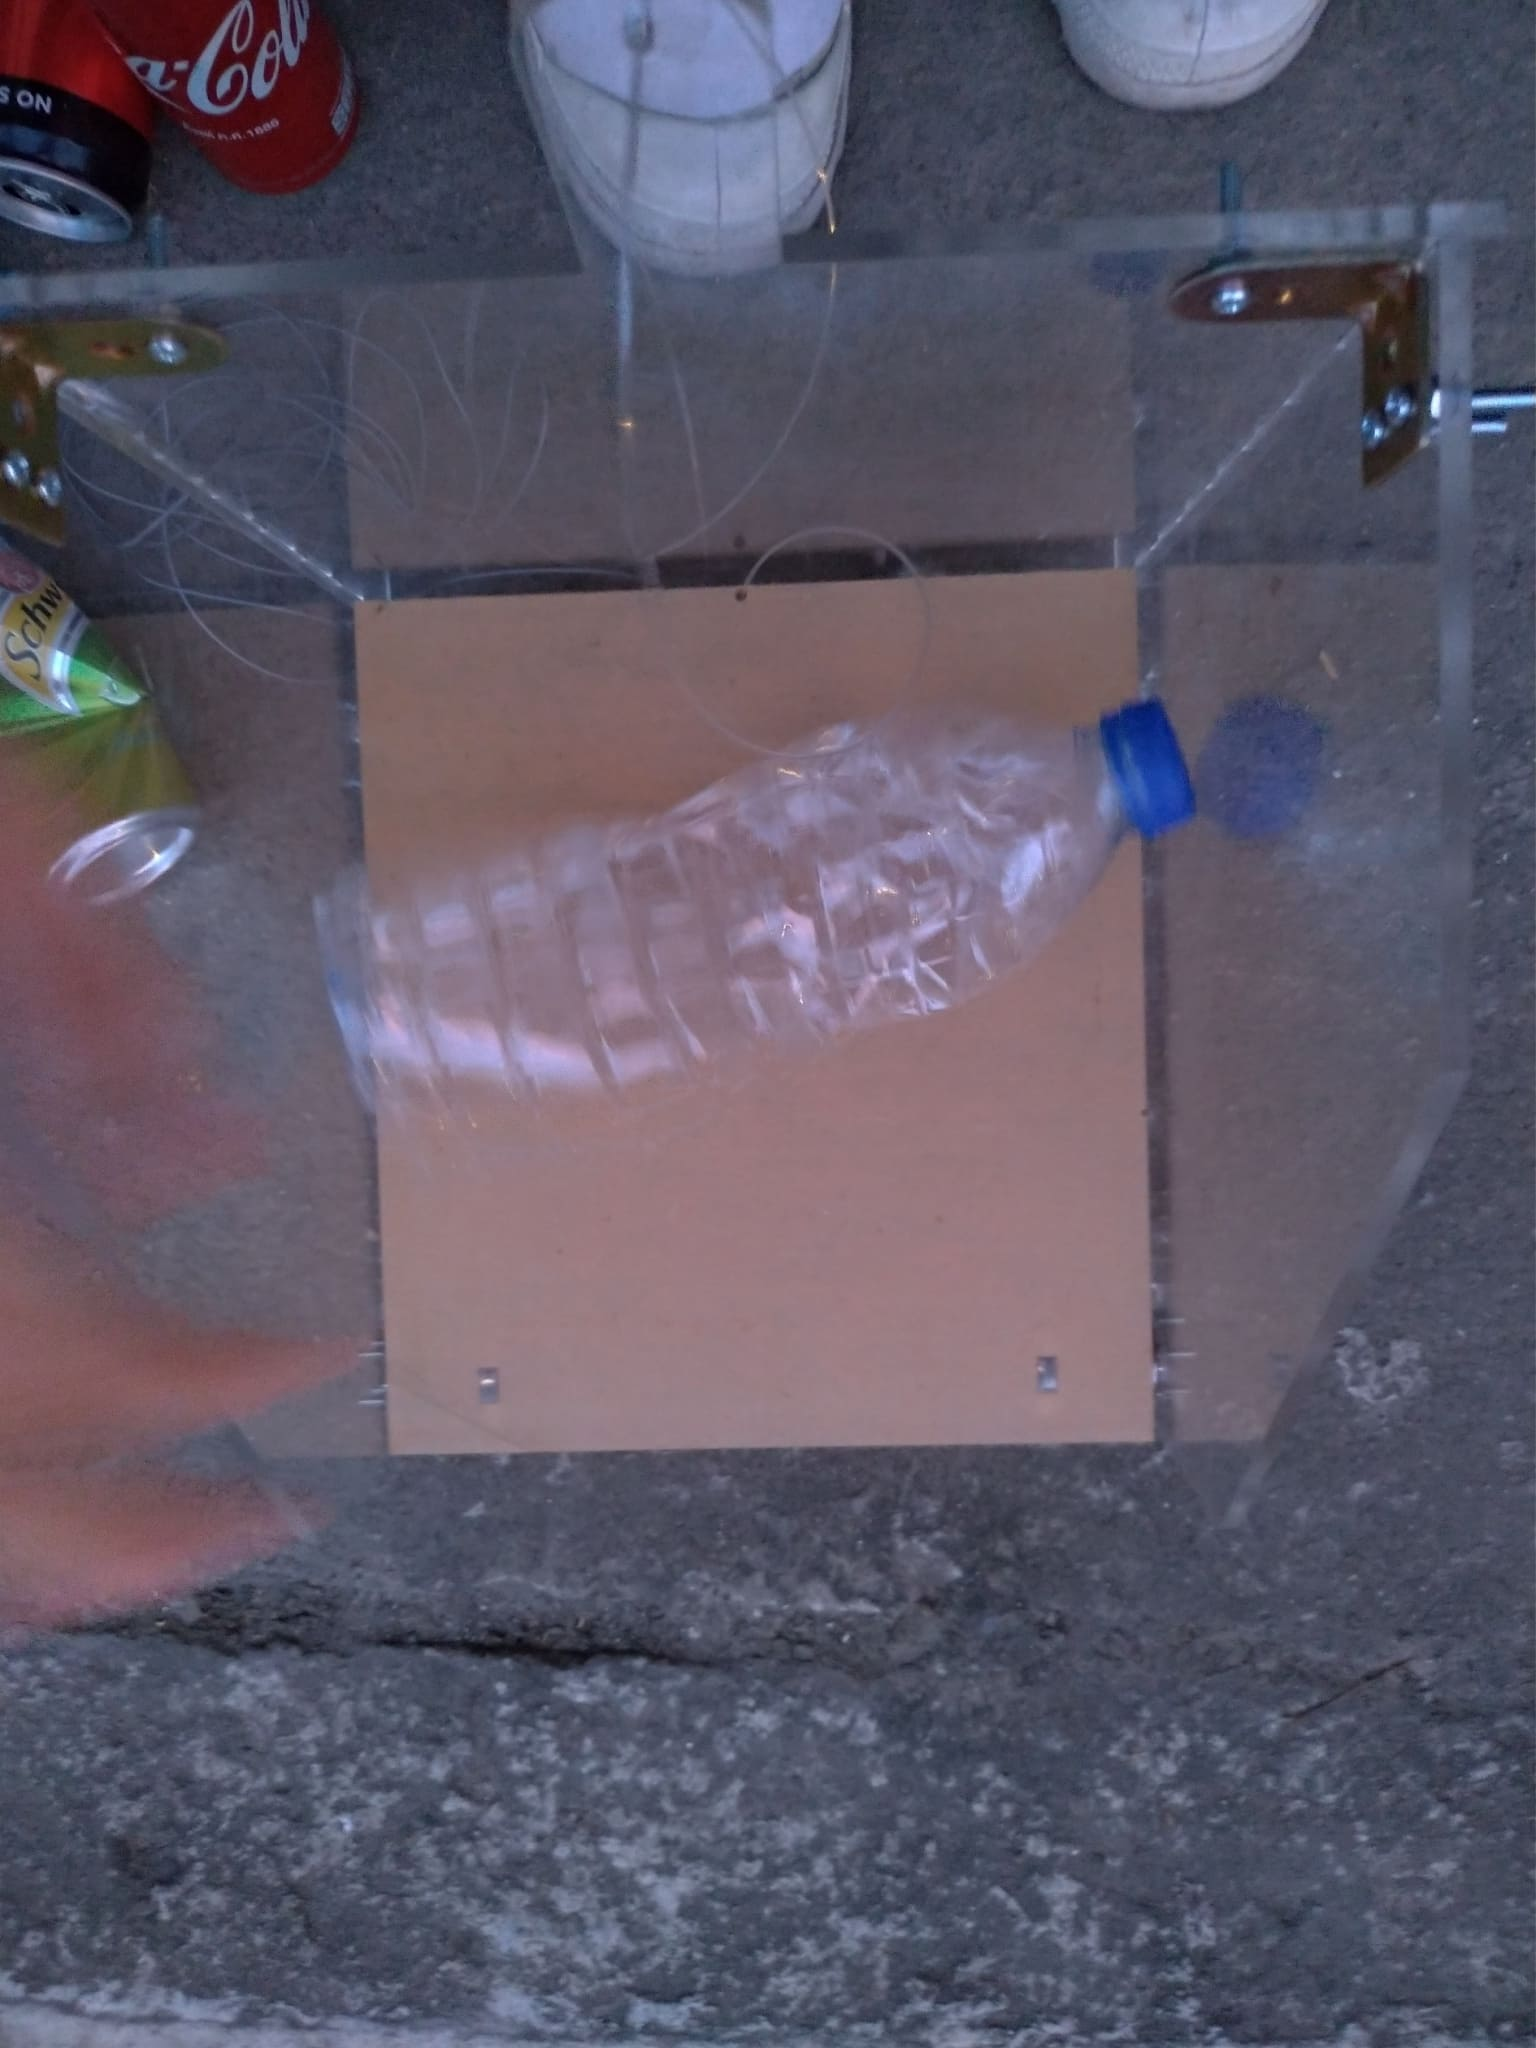AlCan: (2, 497, 211, 926), (89, 2, 376, 206), (2, 2, 134, 245)
PlasticBottle: (311, 703, 1189, 1093)
